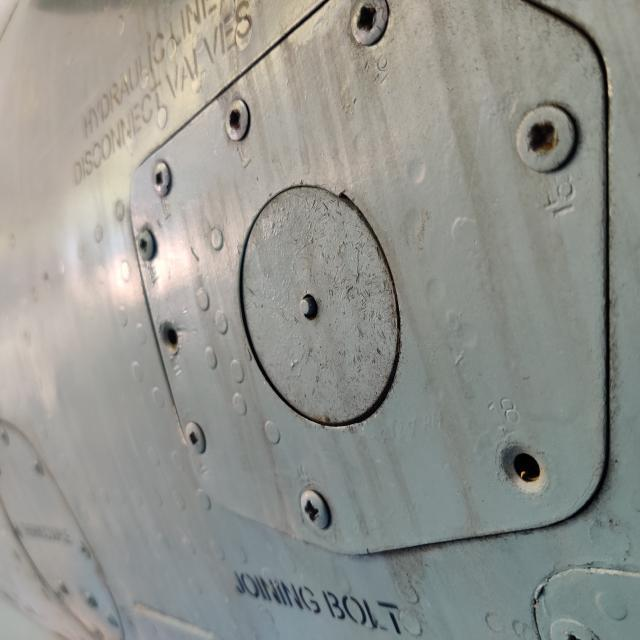missing-head: (482, 418, 572, 518), (137, 303, 203, 372)
